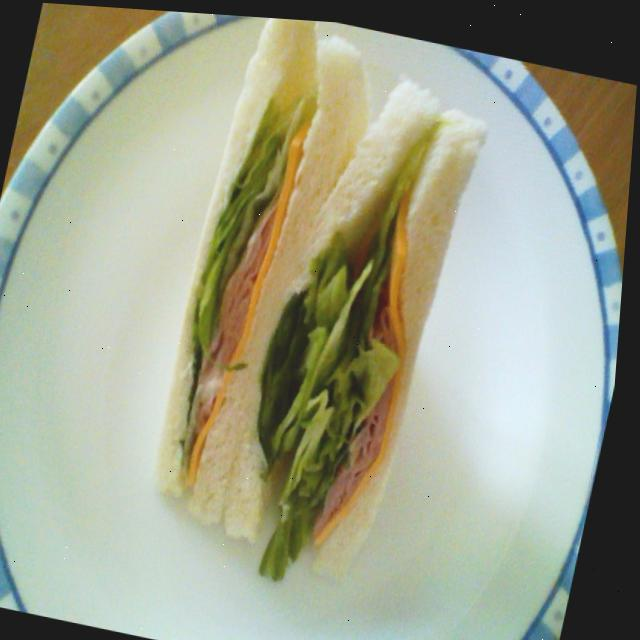三明治: (139, 9, 526, 581)
